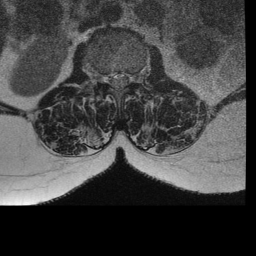CCS_normal: (115, 64, 123, 97)
LFS_normal: (132, 63, 140, 90)
LLS_normal: (123, 63, 132, 94)
RFS_normal: (99, 63, 106, 91)
RLS_normal: (106, 65, 115, 93)
